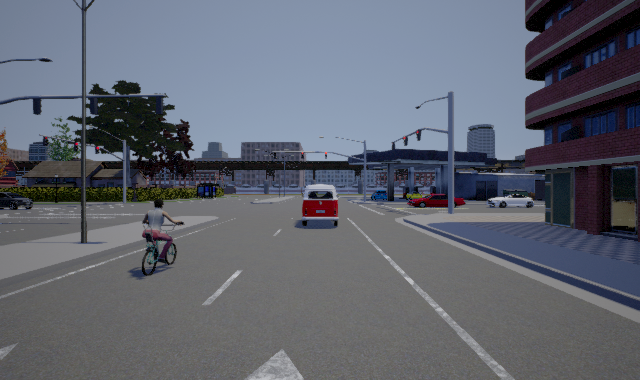bike: (142, 200, 185, 276)
traffic_light: (43, 136, 49, 146), (416, 129, 421, 141), (403, 136, 408, 146), (74, 142, 79, 151), (95, 146, 100, 154), (391, 142, 395, 150), (301, 152, 304, 159), (325, 152, 327, 159), (274, 152, 276, 159)
vehicle: (302, 184, 339, 226), (405, 191, 448, 208), (486, 194, 534, 208), (1, 192, 33, 210)
